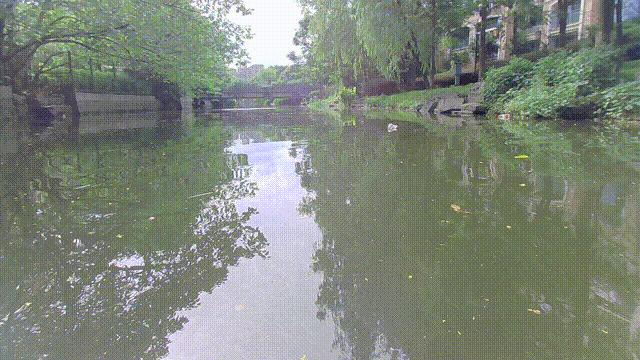Plastic: (386, 122, 397, 133), (510, 154, 531, 159), (498, 114, 511, 121)
